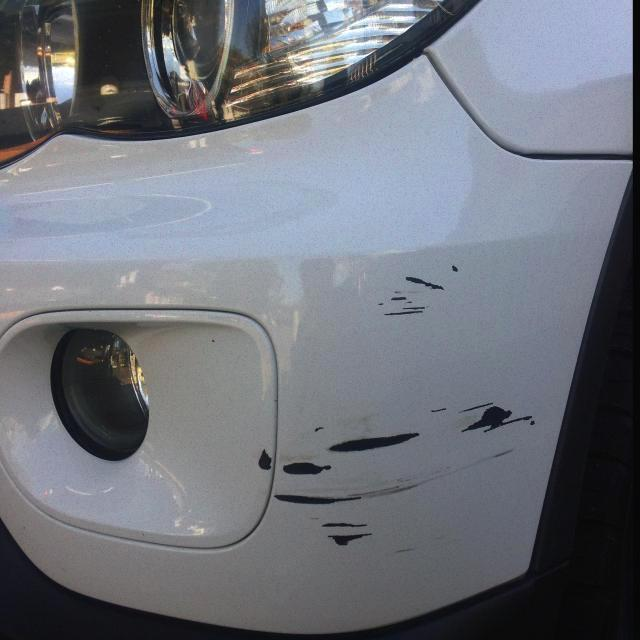minor: (433, 404, 479, 419), (453, 264, 463, 271), (315, 426, 327, 431)
moderate: (275, 406, 534, 506), (364, 273, 447, 322), (317, 520, 375, 560), (256, 449, 273, 475)
